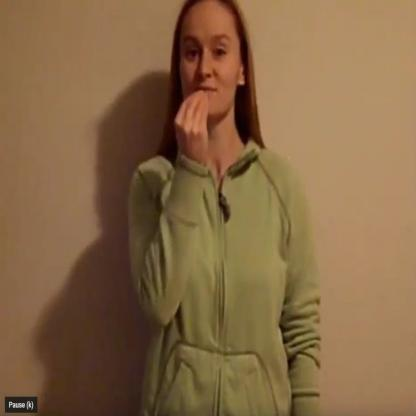Food: (121, 0, 297, 242)
